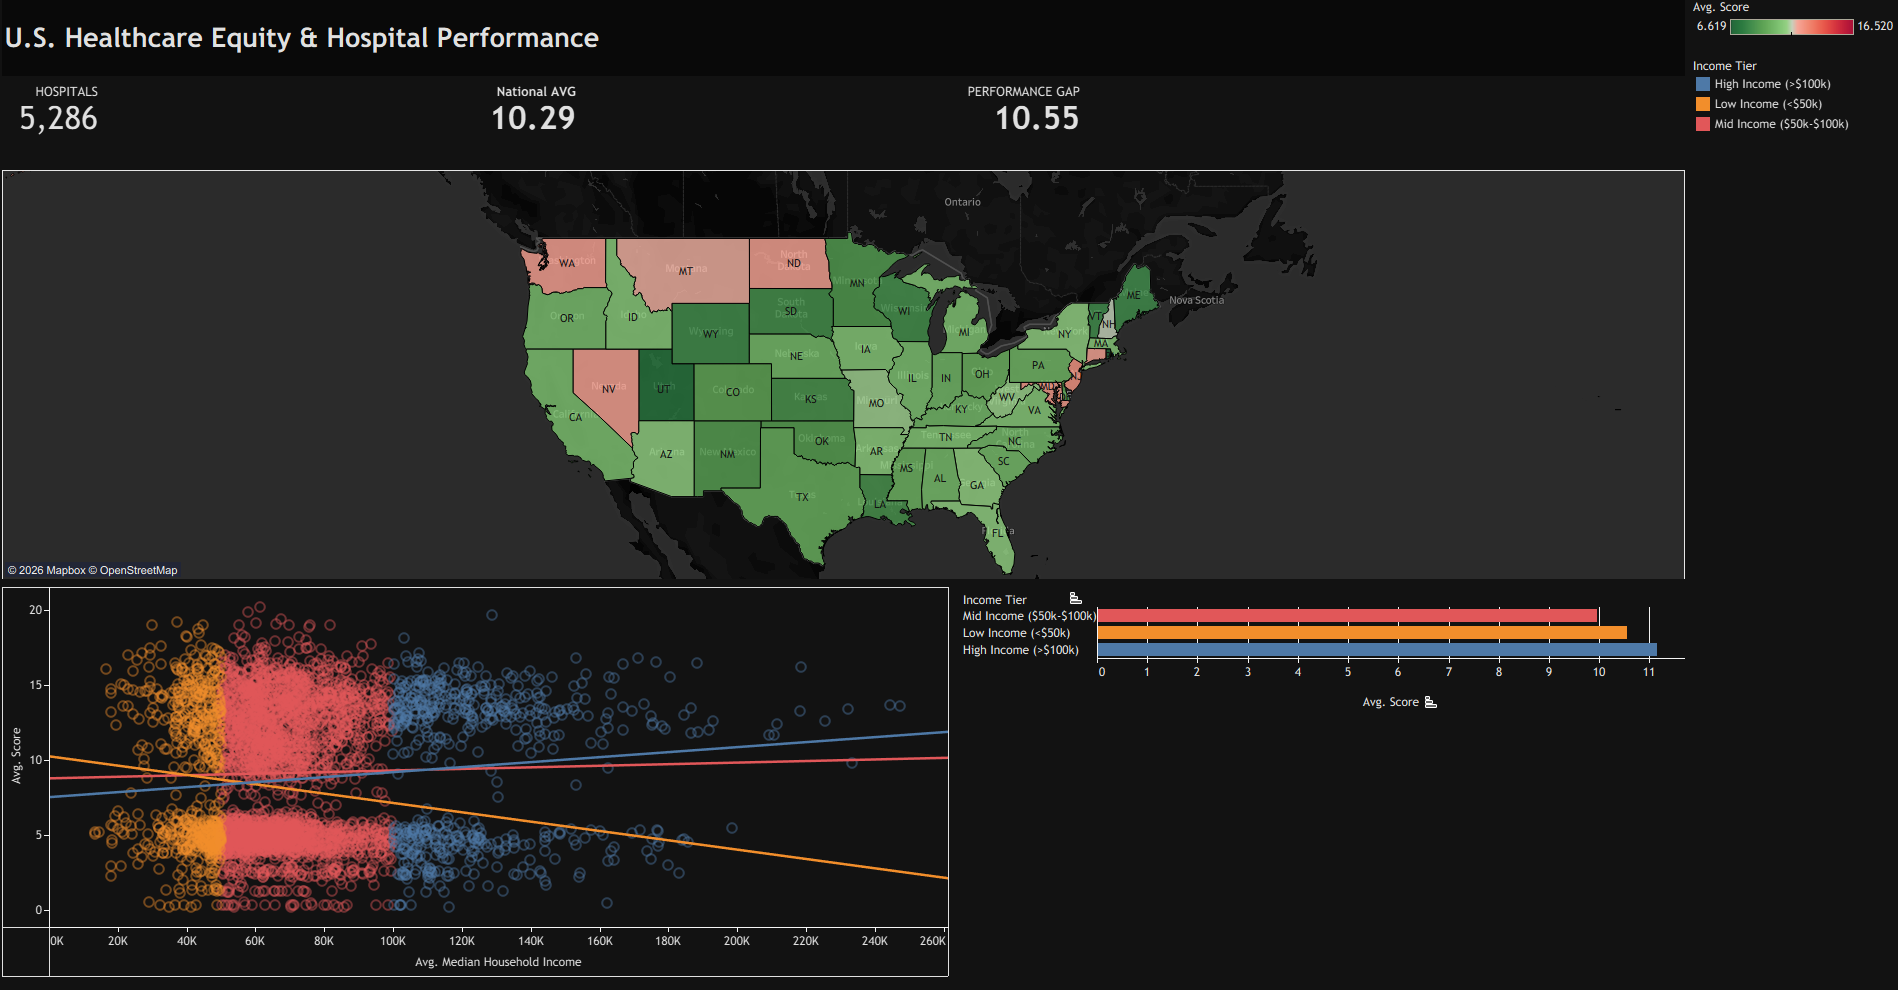

The dashboard page shown, as its layout file describes it:
{"tool":"tableau","page":{"name":"Dashboard 1","canvas":[1000,1000],"units":"permille","ordinal":0},"visuals":[{"type":"text","box":[8.5,9.5,756.1,82.6]},{"type":"legend","title":"Map","param":"[federated.1md3m7p05offnb166bxzf0fcu5jn].[avg:Score:qk]","box":[764.6,9.5,226.8,69.7]},{"type":"legend","title":"bar chart","param":"[federated.1md3m7p05offnb166bxzf0fcu5jn].[none:Calculation_893120138110029824:nk","box":[764.6,79.1,226.8,98]},{"type":"worksheet","title":"total hopital count KPI","mark":"Automatic","box":[8.5,92,213.7,85]},{"type":"worksheet","title":"KPI-national avg","mark":"Automatic","box":[222.2,92,207.7,85]},{"type":"worksheet","title":"KPI-Equity Gap","mark":"Automatic","box":[429.9,92,334.8,85]},{"type":"worksheet","title":"Map","mark":"Multipolygon","box":[8.5,177,756.1,412.1]},{"type":"worksheet","title":"scatterd plot ","mark":"Automatic","rows":["Score"],"cols":["Median_Household_Income"],"box":[8.5,589.1,427,401.4]},{"type":"worksheet","title":"bar chart","mark":"Automatic","rows":["Calculation_893120138110029824"],"cols":["Score"],"box":[435.5,589.1,329.1,401.4]}]}

Visuals, with their boxes on the dashboard's canvas, which has no fixed pixel size, in thousandths of its width and height (x1, y1, x2, y2). These are canvas units, not pixel positions in the 1898x990 screenshot, which may show the page scaled, cropped or inside an application window:
text: 8:10:765:92
"Map" legend: 765:10:991:79
"bar chart" legend: 765:79:991:177
"total hopital count KPI" worksheet: 8:92:222:177
"KPI-national avg" worksheet: 222:92:430:177
"KPI-Equity Gap" worksheet: 430:92:765:177
"Map" worksheet (Multipolygon marks): 8:177:765:589
"scatterd plot " worksheet: 8:589:436:990
"bar chart" worksheet: 436:589:765:990
